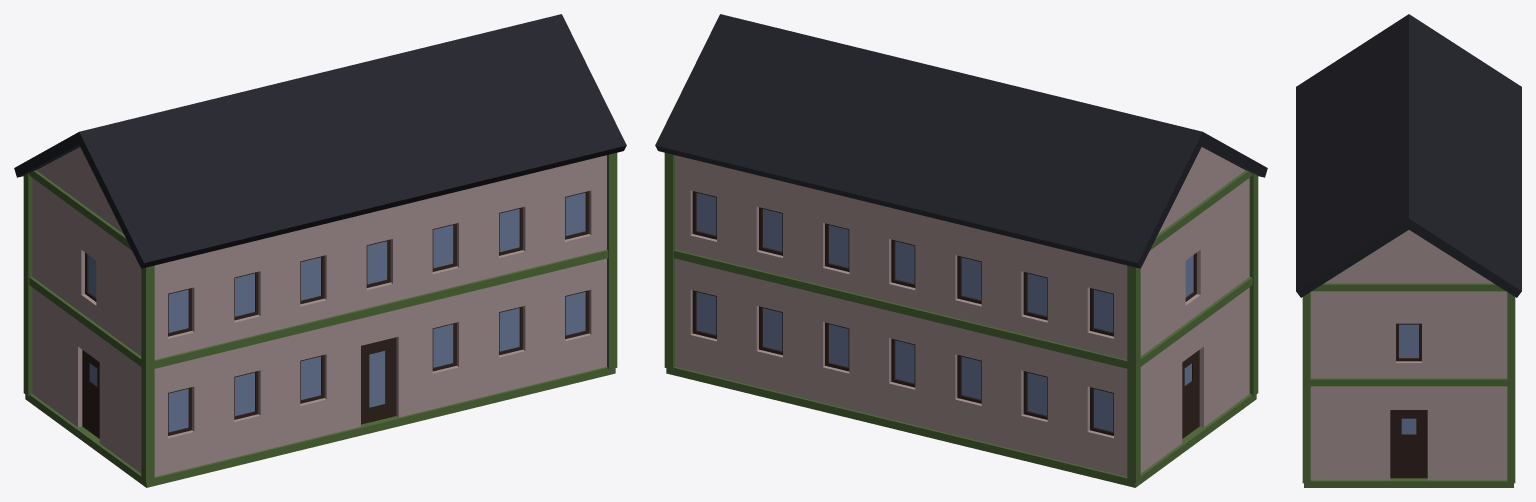
File: ApartmentBuilding_09.fbx
The picture shows the model from 3 angles, left to right: view 1: azimuth 30°, elevation 25°; view 2: azimuth 150°, elevation 25°; view 3: azimuth 270°, elevation 25°; orthographic projection. The views are drawn at different scales.
Visible parts, largest first — view 1: ApartmentBuilding_09; view 2: ApartmentBuilding_09; view 3: ApartmentBuilding_09.
Part boxes in pixels (x1,y1,x2,y2): ApartmentBuilding_09: (14,14,626,487); ApartmentBuilding_09: (655,14,1267,487); ApartmentBuilding_09: (1296,14,1521,487).
Bounding box in the file's own units: 18.42 × 11.44 × 8.59.
